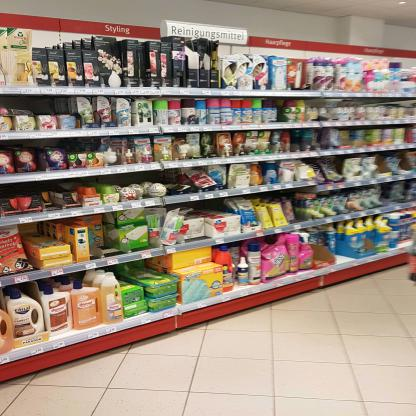Void: (19, 98, 71, 112), (187, 202, 230, 215)
